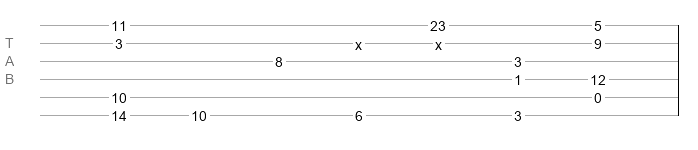0: (594, 90, 602, 100)
1: (514, 72, 522, 82)
10: (111, 90, 127, 100), (191, 108, 207, 118)
11: (111, 18, 127, 28)
12: (590, 72, 606, 82)
14: (111, 108, 127, 118)
23: (430, 18, 446, 28)
3: (115, 36, 123, 46), (514, 108, 522, 118), (514, 54, 522, 64)
5: (594, 18, 602, 28)
6: (355, 108, 363, 118)
8: (275, 54, 283, 64)
9: (594, 36, 602, 46)
x: (355, 37, 362, 45), (435, 37, 442, 45)
